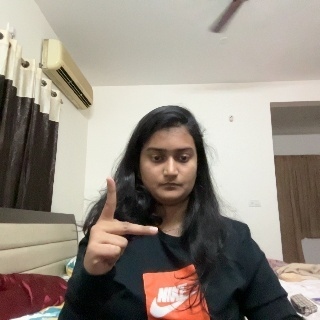Okay: (78, 176, 160, 282)
